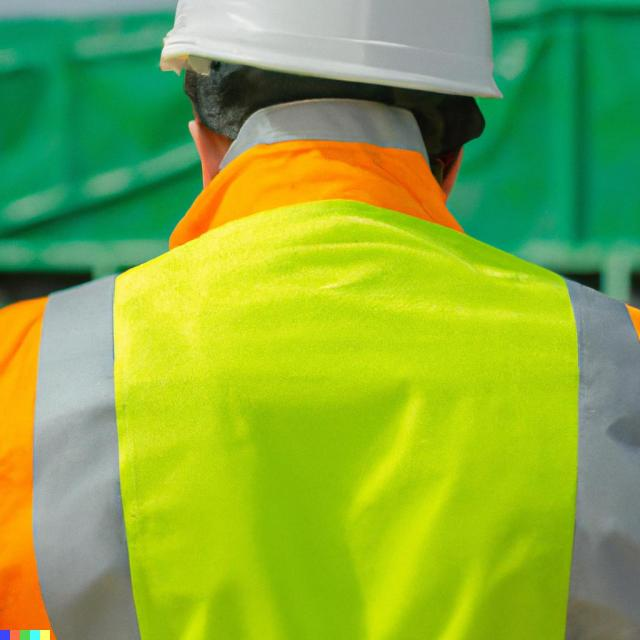Reflective-Jacket: (21, 116, 635, 630)
Safety-Helmet: (160, 0, 506, 102)
